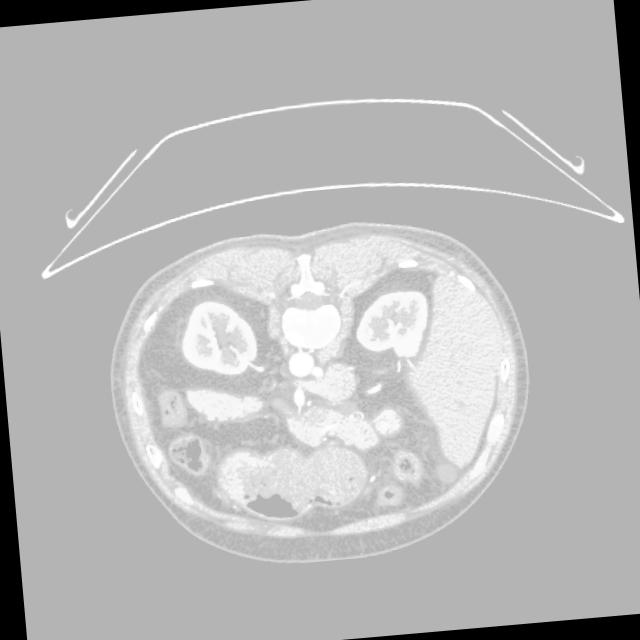TUMOR: (127, 269, 515, 523)
